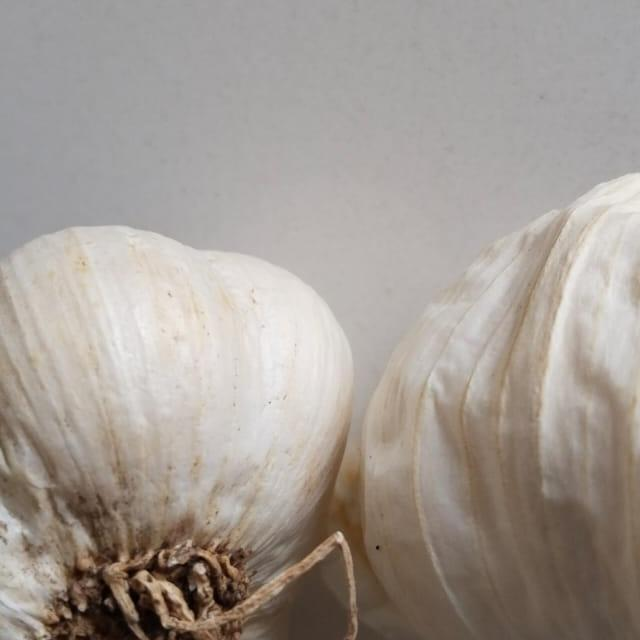garlic: (0, 175, 350, 640), (396, 98, 640, 640)
